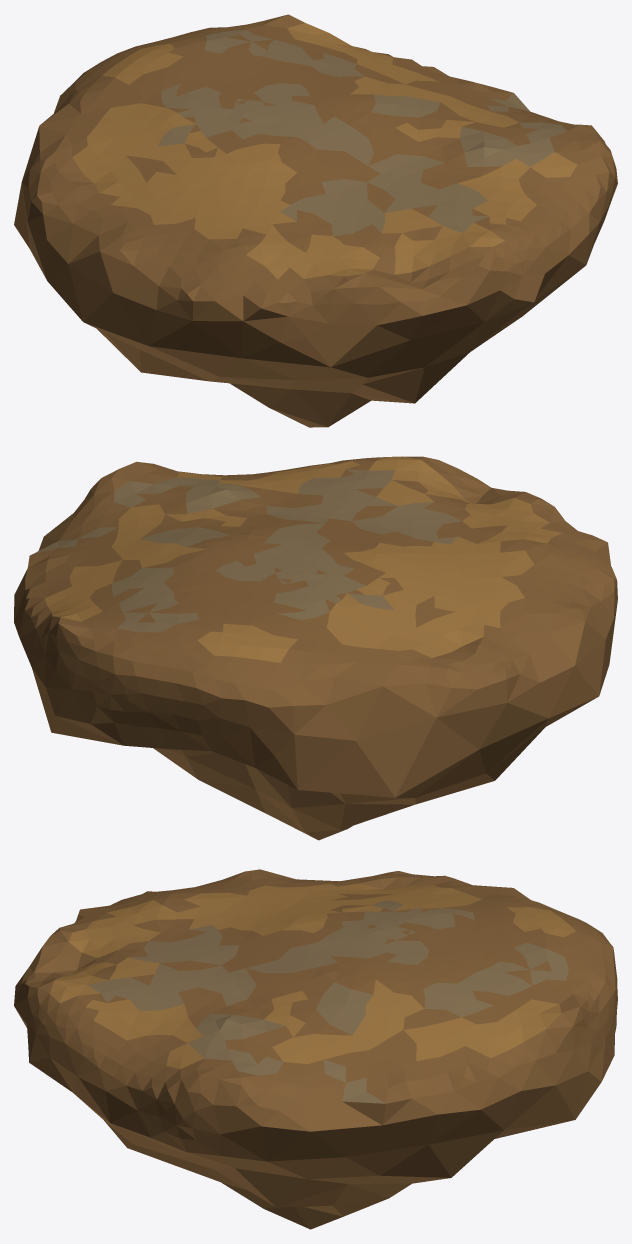
The model's file is small2.fbx.
The picture shows the model from 3 angles, top to bottom: view 1: azimuth 30°, elevation 25°; view 2: azimuth 150°, elevation 25°; view 3: azimuth 270°, elevation 25°; orthographic projection. The views are drawn at different scales.
Visible parts, largest first — view 1: 棱角球; view 2: 棱角球; view 3: 棱角球.
Boxes of the visible parts, left/top/right/bottom form: 棱角球: left=14, top=14, right=617, bottom=427; 棱角球: left=14, top=456, right=617, bottom=840; 棱角球: left=14, top=869, right=617, bottom=1229.
Size of the model in its own units: 4344 by 2363 by 4461.
